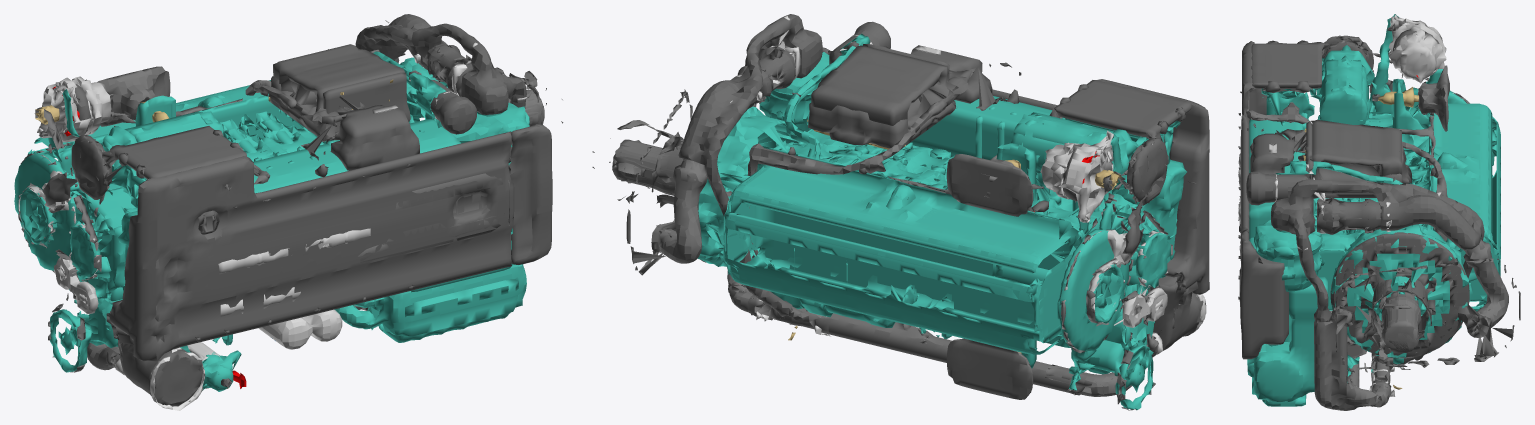
Rendered from volvoLowPoly.fbx.
The picture shows the model from 3 angles, left to right: view 1: azimuth 30°, elevation 25°; view 2: azimuth 150°, elevation 25°; view 3: azimuth 270°, elevation 25°; orthographic projection. The views are drawn at different scales.
Parts seen in each view (by area): view 1: Object.005, Object.002, Object.040, Object.006, Object.008, Object.022, Object.003, Object.027, Object.007, Object.004, Object.035, Object.021 (+18 smaller); view 2: Object.034, Object.035, Object.045, Object.044, Object.002, Object.008, Object.040, Object.005, Object.027, Object.003, Object.041, Object.009 (+19 smaller); view 3: Object.006, Object.002, Object.035, Object.034, Object.044, Object.045, Object.008, Object.022, Object.003, Object.020, Object.005, Object.051 (+19 smaller).
Boxes of the visible parts, left/top/right/bottom form: Object.005: left=109, top=88, right=563, bottom=361; Object.002: left=71, top=14, right=526, bottom=199; Object.040: left=14, top=126, right=137, bottom=345; Object.006: left=76, top=96, right=552, bottom=387; Object.008: left=273, top=44, right=404, bottom=312; Object.022: left=371, top=264, right=526, bottom=336; Object.003: left=75, top=84, right=246, bottom=360; Object.027: left=107, top=119, right=460, bottom=387; Object.007: left=123, top=105, right=419, bottom=341; Object.004: left=42, top=142, right=202, bottom=406; Object.035: left=27, top=57, right=447, bottom=174; Object.021: left=379, top=102, right=529, bottom=342; Object.034: left=723, top=143, right=1081, bottom=354; Object.035: left=697, top=106, right=1113, bottom=343; Object.045: left=626, top=89, right=1158, bottom=399; Object.044: left=612, top=100, right=1172, bottom=410; Object.002: left=678, top=14, right=1168, bottom=316; Object.008: left=811, top=45, right=1021, bottom=129; Object.040: left=992, top=129, right=1152, bottom=390; Object.005: left=592, top=50, right=1209, bottom=294; Object.027: left=873, top=96, right=1186, bottom=337; Object.003: left=1054, top=80, right=1191, bottom=335; Object.041: left=1076, top=134, right=1153, bottom=410; Object.009: left=788, top=44, right=955, bottom=174; Object.006: left=1239, top=23, right=1488, bottom=359; Object.002: left=1246, top=35, right=1484, bottom=360; Object.035: left=1320, top=55, right=1499, bottom=357; Object.034: left=1310, top=79, right=1500, bottom=311; Object.044: left=1246, top=51, right=1447, bottom=410; Object.045: left=1254, top=40, right=1520, bottom=406; Object.008: left=1238, top=120, right=1401, bottom=258; Object.022: left=1252, top=277, right=1359, bottom=402; Object.003: left=1251, top=29, right=1439, bottom=88; Object.020: left=1254, top=161, right=1402, bottom=291; Object.005: left=1240, top=41, right=1417, bottom=359; Object.051: left=1239, top=29, right=1446, bottom=255.
Size of the model in its own units: 142 by 72.54 by 76.6.
